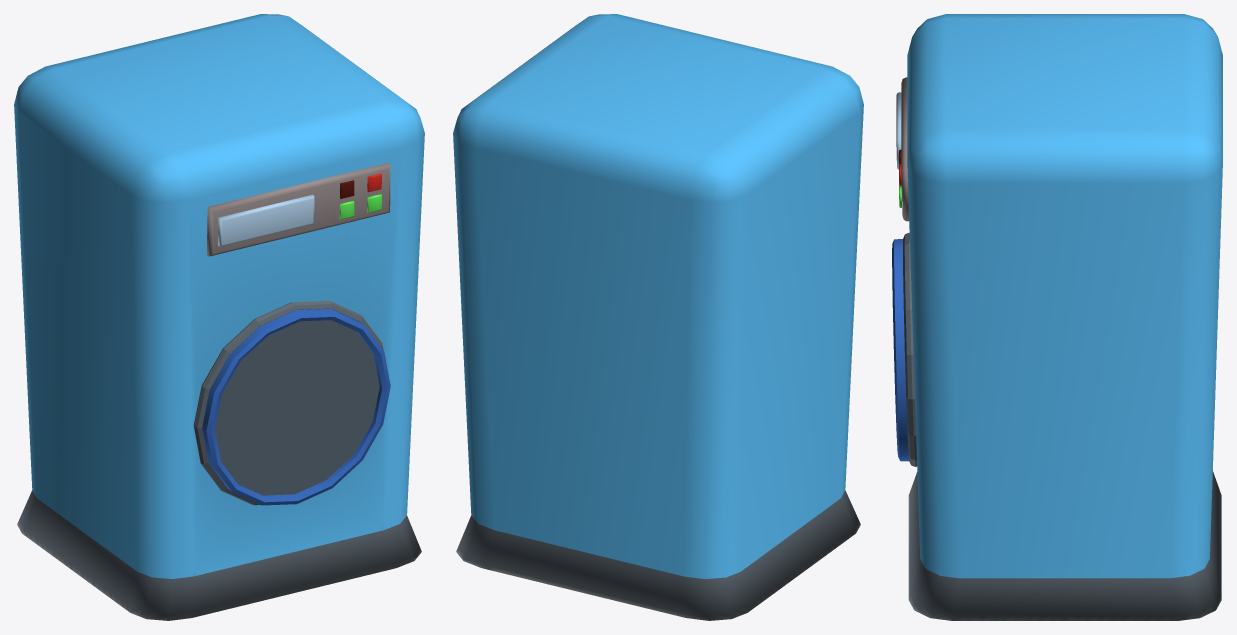
File: self_service_washing_machine.fbx
3 views of the same model, side by side, from view 1: azimuth 30°, elevation 25°; view 2: azimuth 150°, elevation 25°; view 3: azimuth 270°, elevation 25° (orthographic). The views are drawn at different scales.
Parts seen in each view (by area): view 1: self_service_washing_machine, self_service_washing_machine_lid; view 2: self_service_washing_machine; view 3: self_service_washing_machine, self_service_washing_machine_lid.
Part boxes in pixels (x1=…): self_service_washing_machine: x1=14, y1=14, x2=424, y2=620; self_service_washing_machine_lid: x1=202, y1=308, x2=390, y2=505; self_service_washing_machine: x1=453, y1=14, x2=863, y2=620; self_service_washing_machine: x1=896, y1=14, x2=1222, y2=620; self_service_washing_machine_lid: x1=892, y1=239, x2=908, y2=461.
Bounding box in the file's own units: 588 × 882 × 558.
